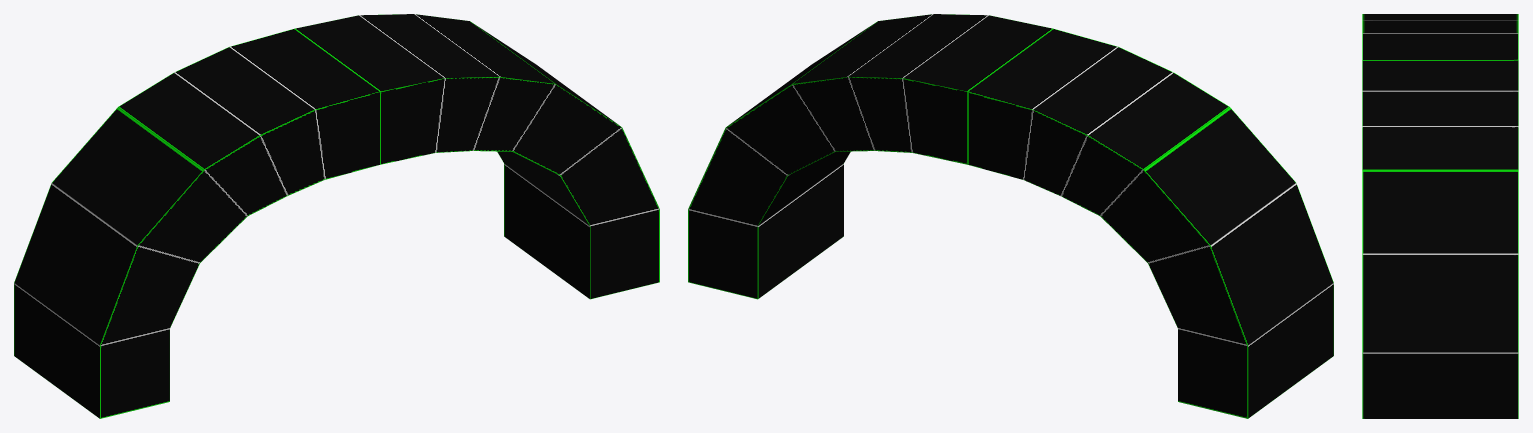
The model's file is Bridge.fbx.
The picture shows the model from 3 angles, left to right: view 1: azimuth 30°, elevation 25°; view 2: azimuth 150°, elevation 25°; view 3: azimuth 270°, elevation 25°; orthographic projection. The views are drawn at different scales.
Visible parts, largest first — view 1: Bridge; view 2: Bridge; view 3: Bridge.
Boxes of the visible parts, box(x1,y1,x2,y2) form: Bridge: box(14, 14, 659, 418); Bridge: box(688, 14, 1333, 418); Bridge: box(1362, 14, 1518, 418).
Size of what is drawn, in the model's own units: 4.57 by 2.02 by 1.22.
Materials: 1 (1 with a texture image).
